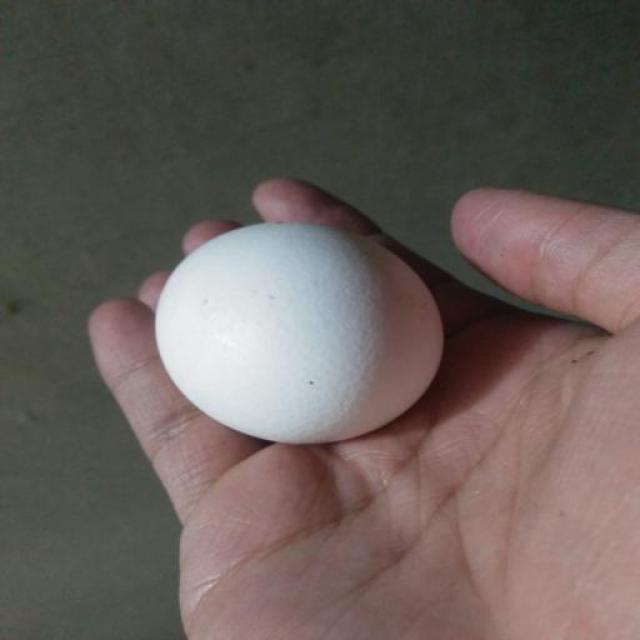telur: (155, 223, 441, 446)
